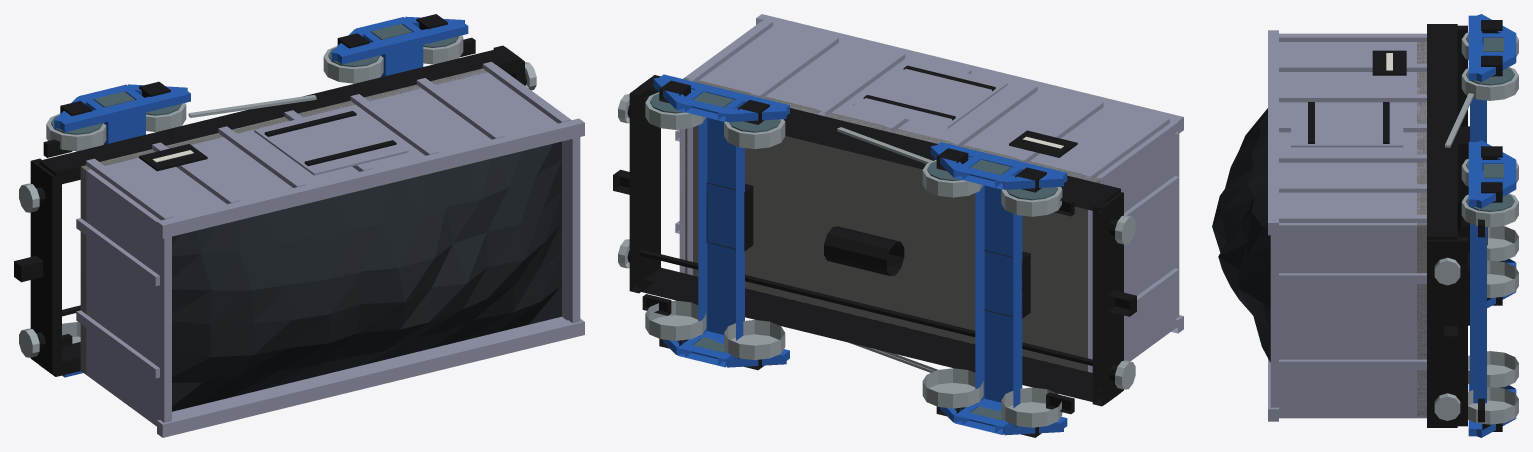
Rendered from loaded.glb.
3 views of the same model, side by side, from view 1: azimuth 30°, elevation 25°; view 2: azimuth 150°, elevation 25°; view 3: azimuth 270°, elevation 25° (orthographic). The views are drawn at different scales.
Parts seen in each view (by area): view 1: loaded_coal, loaded_body, loaded_solebar1, loaded_bogie-1, loaded_bogie1, loaded_headstock-1, loaded_door1, loaded_buffers-1, loaded_panel1, loaded_brake_lever1, loaded_solebar-1, loaded_hinge12.6 (+1 smaller); view 2: loaded_body, loaded_bogie-1, loaded_bogie1, loaded_solebar-1, loaded_headstock-1, loaded_headstock1, loaded_door1, loaded_solebar1, loaded_brake_cylinder, loaded_brake_pipe, loaded_buffers-1, loaded_buffers1 (+4 smaller); view 3: loaded_body, loaded_bogie1, loaded_coal, loaded_bogie-1, loaded_solebar1, loaded_headstock1, loaded_door1, loaded_buffers1, loaded_panel1, loaded_headstock-1, loaded_pivot-1, loaded_brake_lever1 (+1 smaller).
Part boxes in pixels (x1,y1,x2,y2): loaded_coal: (172, 141, 561, 411); loaded_body: (76, 61, 584, 437); loaded_solebar1: (39, 47, 521, 185); loaded_bogie-1: (46, 81, 190, 377); loaded_bogie1: (323, 14, 468, 83); loaded_headstock-1: (30, 158, 61, 374); loaded_door1: (254, 106, 408, 175); loaded_buffers-1: (14, 183, 45, 357); loaded_panel1: (139, 144, 207, 171); loaded_brake_lever1: (188, 95, 316, 117); loaded_solebar-1: (39, 342, 80, 376); loaded_hinge12.6: (264, 111, 356, 136); loaded_body: (675, 14, 1183, 372); loaded_bogie-1: (922, 142, 1067, 437); loaded_bogie1: (645, 74, 789, 370); loaded_solebar-1: (638, 267, 1120, 404); loaded_headstock-1: (1092, 192, 1123, 406); loaded_headstock1: (629, 87, 660, 293); loaded_door1: (853, 60, 1007, 128); loaded_solebar1: (638, 75, 1120, 212); loaded_brake_cylinder: (824, 226, 904, 276); loaded_brake_pipe: (639, 249, 1092, 365); loaded_buffers-1: (1107, 215, 1136, 389); loaded_buffers1: (613, 94, 638, 268); loaded_body: (1268, 30, 1426, 421); loaded_bogie1: (1461, 140, 1518, 437); loaded_coal: (1212, 108, 1270, 362); loaded_bogie-1: (1461, 14, 1518, 308); loaded_solebar1: (1427, 24, 1457, 239); loaded_headstock1: (1427, 237, 1467, 426); loaded_door1: (1291, 102, 1403, 147); loaded_buffers1: (1434, 257, 1460, 420); loaded_panel1: (1372, 50, 1406, 75); loaded_headstock-1: (1457, 25, 1467, 203); loaded_pivot-1: (1457, 126, 1469, 198); loaded_brake_lever1: (1445, 93, 1473, 147).
Bounding box in the file's own units: 8.2 × 3.9 × 4.51.
